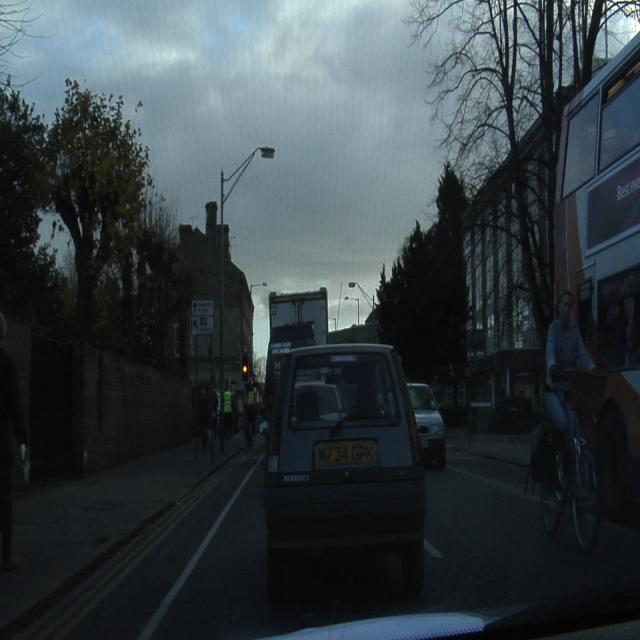Building: (464, 160, 545, 411), (179, 202, 220, 385), (222, 225, 254, 385)
Car: (263, 344, 429, 605)
Road: (147, 450, 634, 637), (18, 441, 262, 638)
Tree: (406, 0, 640, 343), (0, 80, 178, 364), (378, 165, 469, 382)
Truck_Bus: (556, 34, 639, 368)
